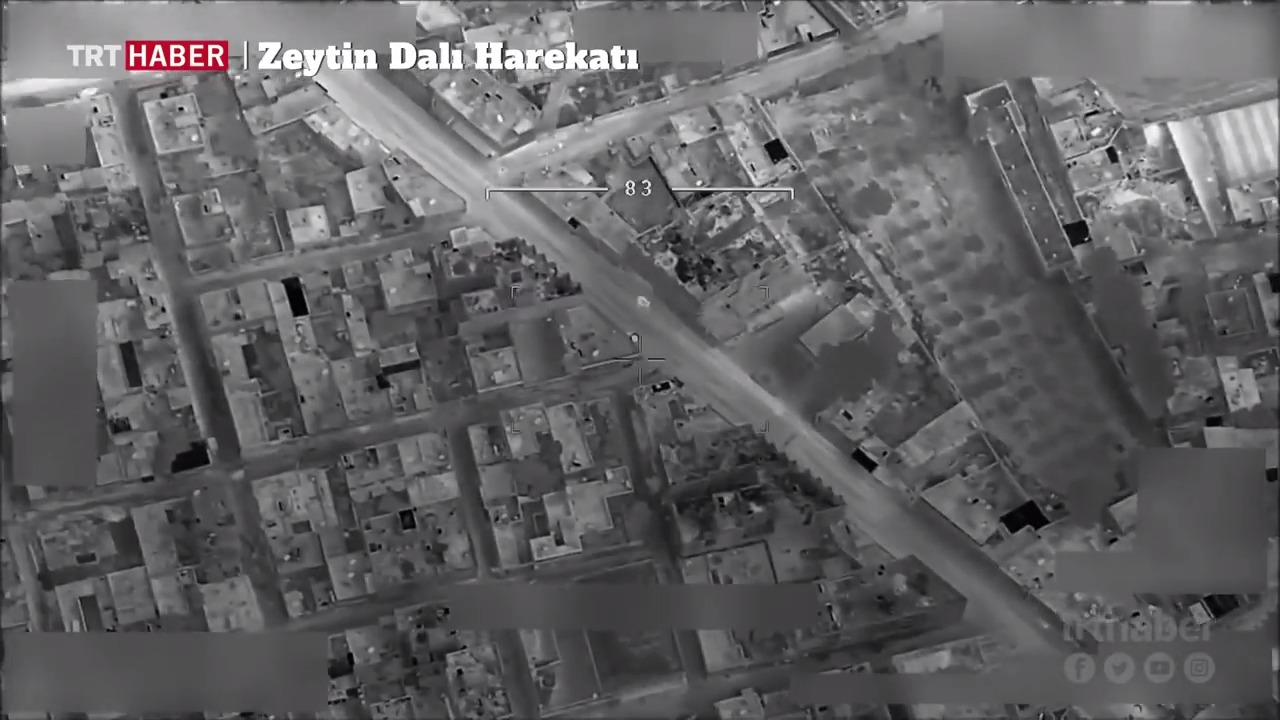bina: (141, 85, 212, 162), (282, 197, 335, 254)
